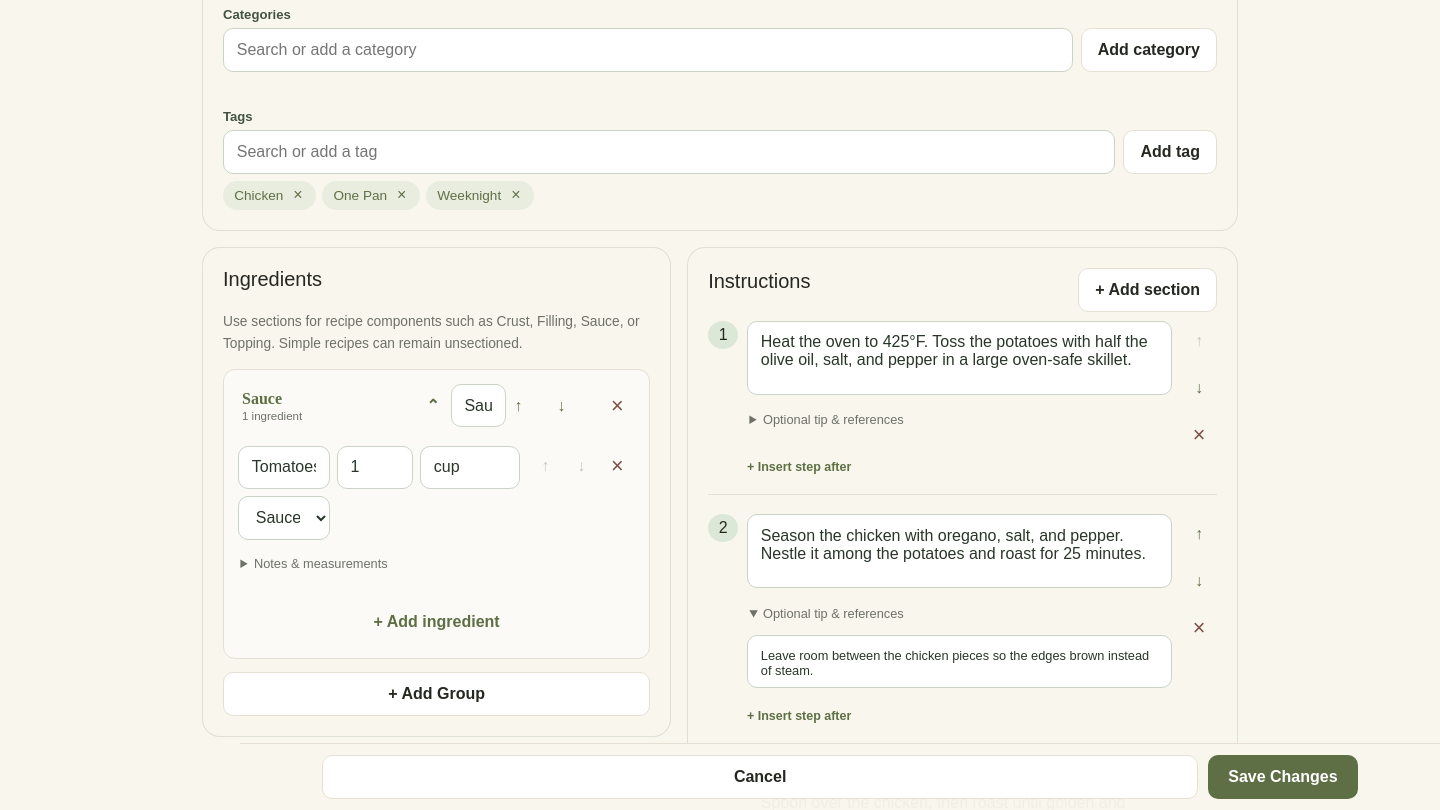
Test: RecipeForm › collapses ingredient groups and adds an ingredient inside its group
(page scrolled)
Click the button "Sauce 1 ingredient ⌃" at (341, 406), box left=238, top=384, right=444, bottom=428
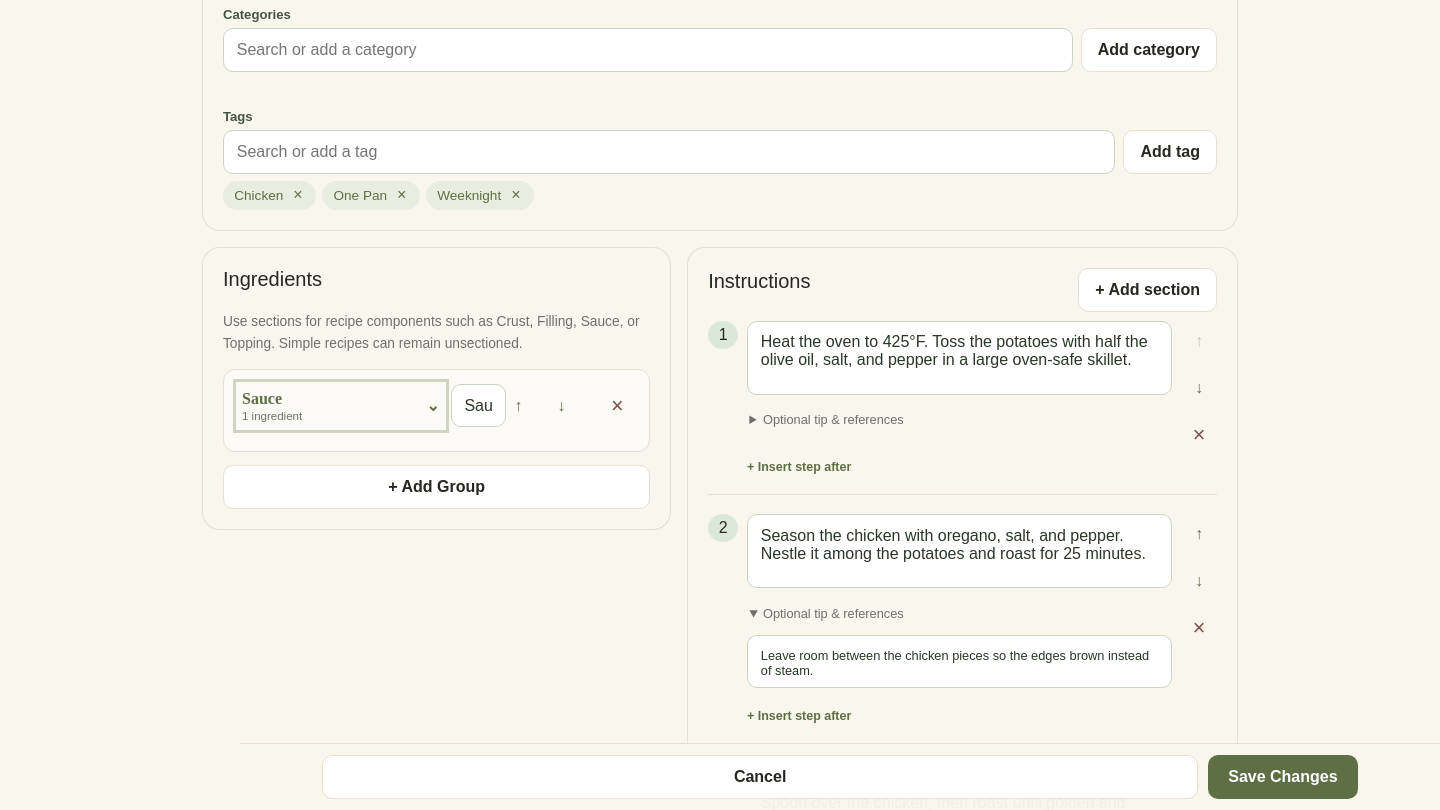
Click the button "Sauce 1 ingredient ⌄" at (341, 406), box left=238, top=384, right=444, bottom=428
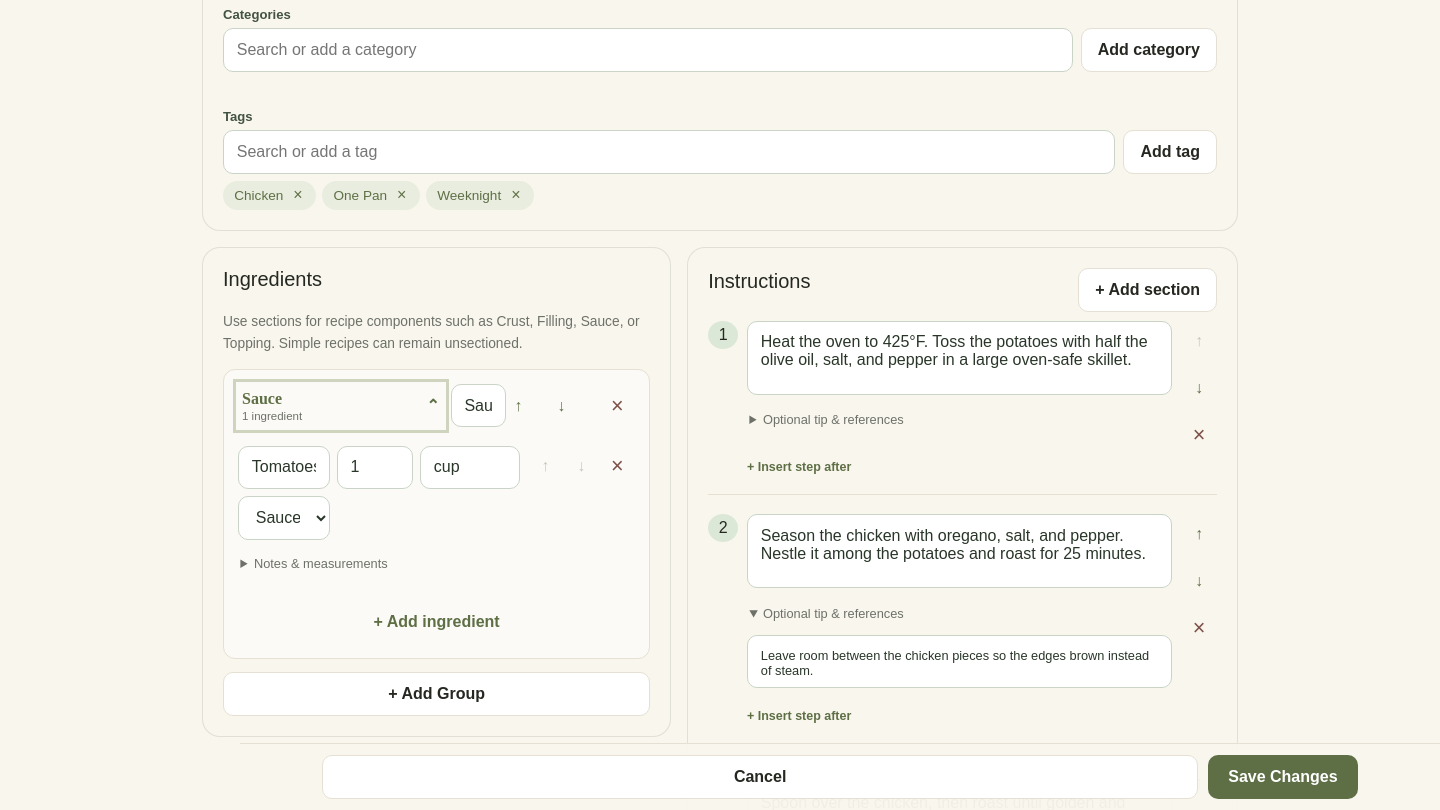
Click the button "+ Add ingredient" at (437, 622), box left=238, top=600, right=635, bottom=644
(page scrolled)
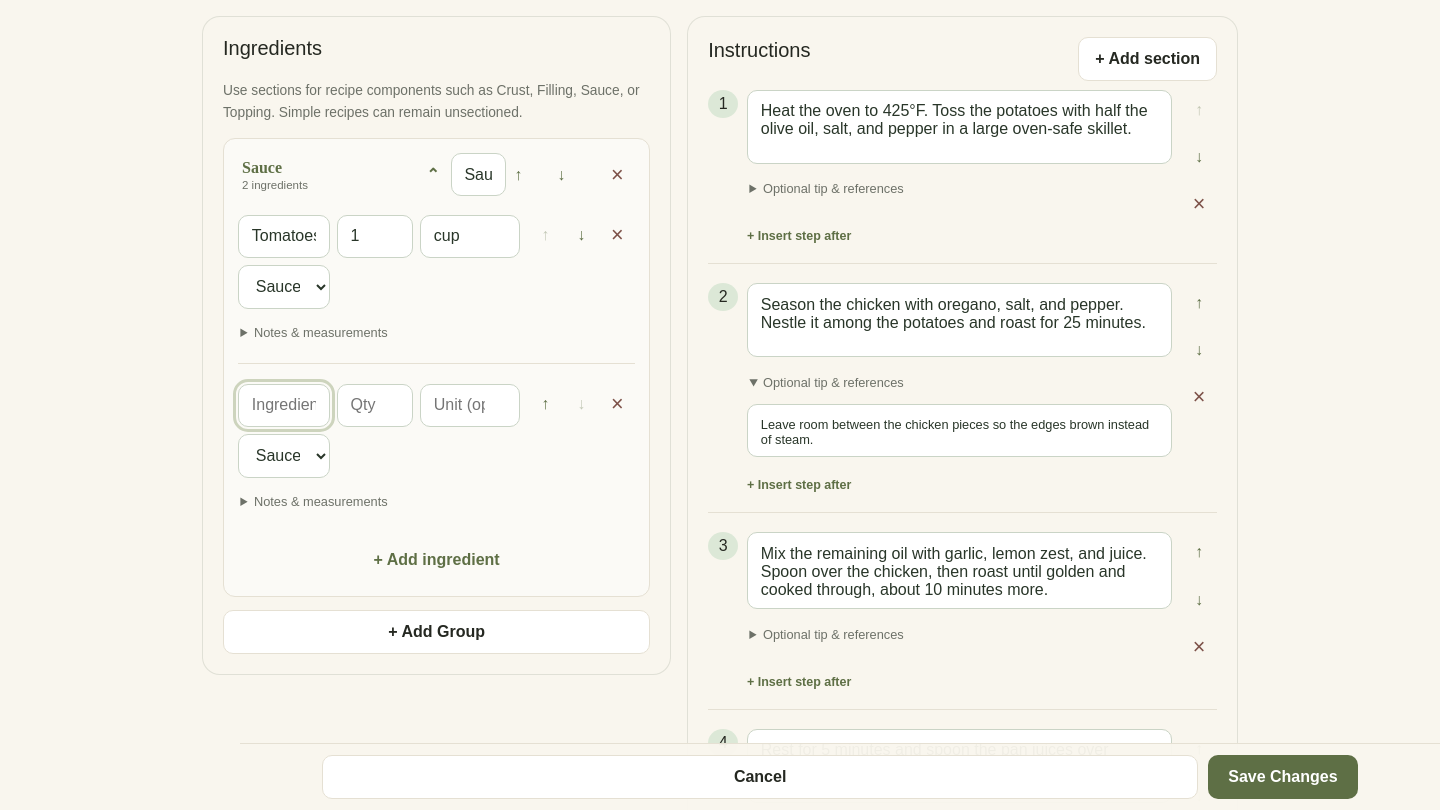
Result: the dropdown named "Ingredient 2 section" shows "Sauce" at left=238, top=434, right=330, bottom=478
